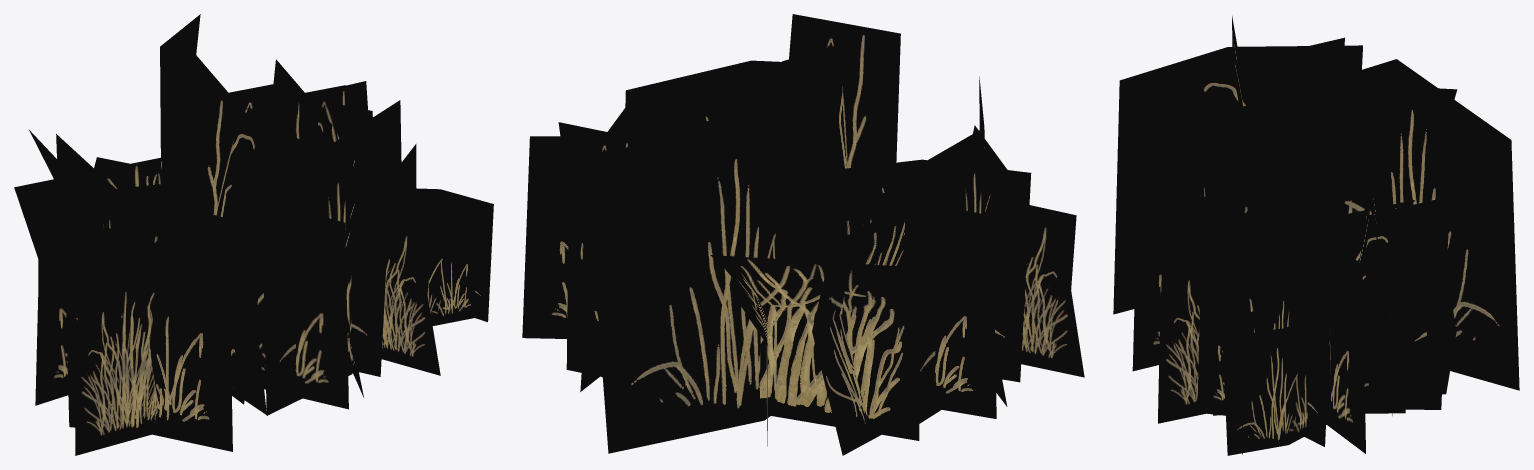
The model's file is dry_grass.obj.
3 renders of one model, left to right at view 1: azimuth 30°, elevation 25°; view 2: azimuth 150°, elevation 25°; view 3: azimuth 270°, elevation 25°, orthographic. The views are drawn at different scales.
Visible parts, largest first — view 1: obj5, obj1, obj7, obj6, obj4, obj3, obj2; view 2: obj4, obj5, obj7, obj3, obj1, obj2; view 3: obj4, obj3, obj1, obj6, obj5, obj2, obj7.
Boxes of the visible parts, left/top/right/bottom form: obj5: left=35, top=134, right=232, bottom=455; obj1: left=251, top=93, right=440, bottom=415; obj7: left=172, top=44, right=287, bottom=414; obj6: left=388, top=144, right=493, bottom=325; obj4: left=14, top=14, right=278, bottom=404; obj3: left=280, top=81, right=406, bottom=217; obj2: left=273, top=59, right=345, bottom=148; obj4: left=586, top=88, right=919, bottom=455; obj5: left=827, top=76, right=1084, bottom=423; obj7: left=782, top=14, right=900, bottom=261; obj3: left=522, top=108, right=661, bottom=376; obj1: left=624, top=60, right=802, bottom=259; obj2: left=566, top=128, right=645, bottom=391; obj4: left=1218, top=59, right=1519, bottom=390; obj3: left=1200, top=158, right=1456, bottom=453; obj1: left=1132, top=99, right=1314, bottom=423; obj6: left=1197, top=269, right=1331, bottom=455; obj5: left=1113, top=45, right=1362, bottom=314; obj2: left=1354, top=182, right=1449, bottom=415; obj7: left=1180, top=16, right=1344, bottom=171.
Bounding box in the file's own units: 1.37 × 0.9476 × 1.08.
1 material, 1 textured.
